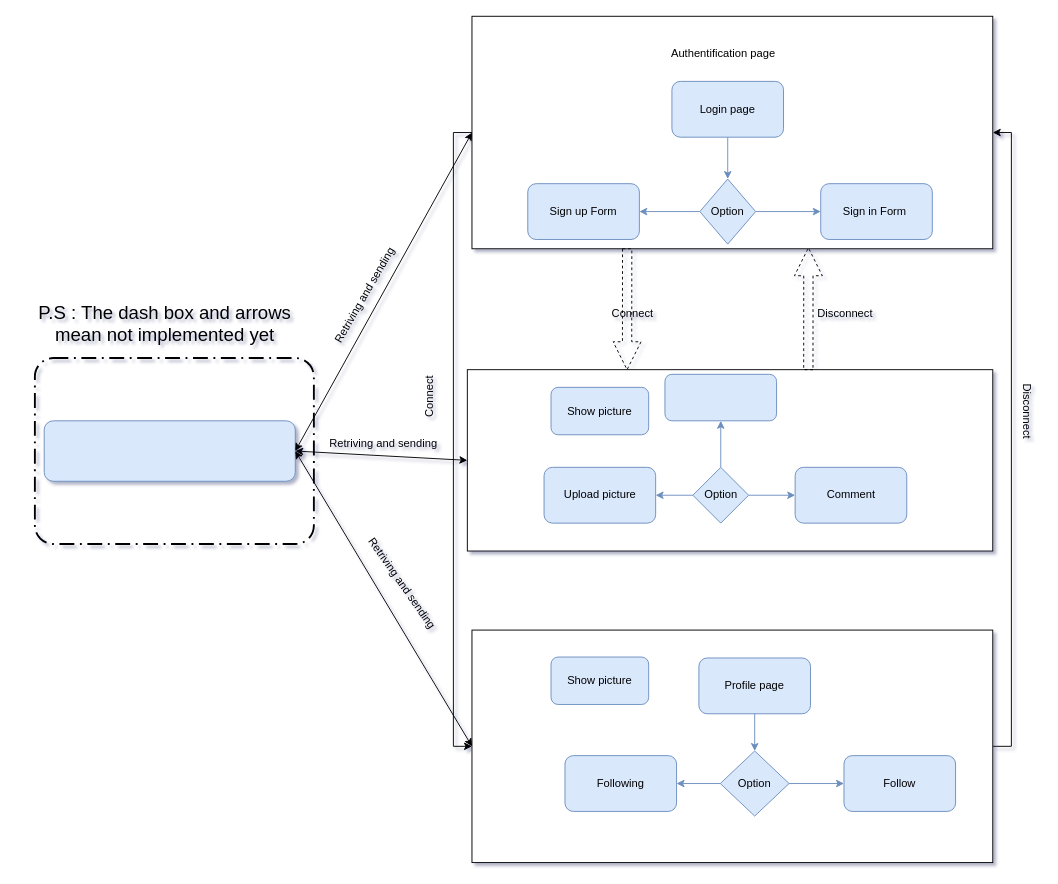
The diagram is 1058 pixels wide and 884 high, and some of its shapes have lost their labels. The shapes that lost their labels are listed below. From the top down, each one's centre as x and y in pixels, then its label:
point 720,397: Feed page
point 169,450: DataBase
